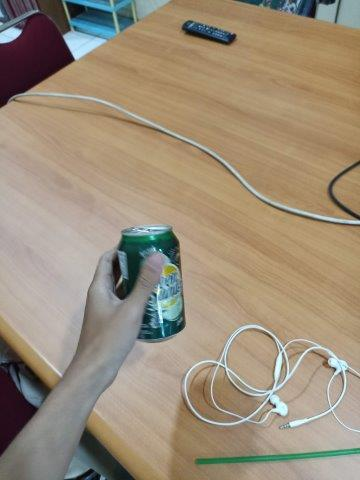kaleng: (117, 226, 186, 343)
